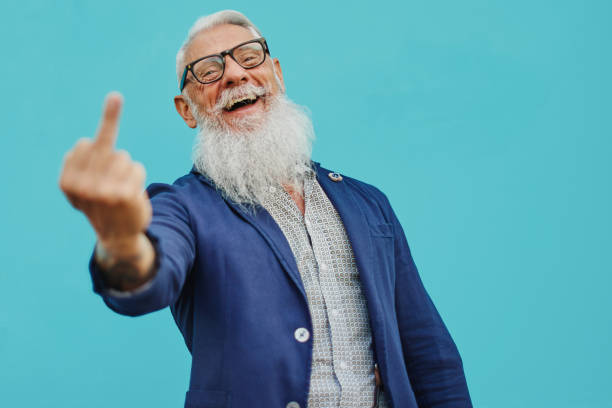insulting_gesture: (59, 92, 153, 238)
